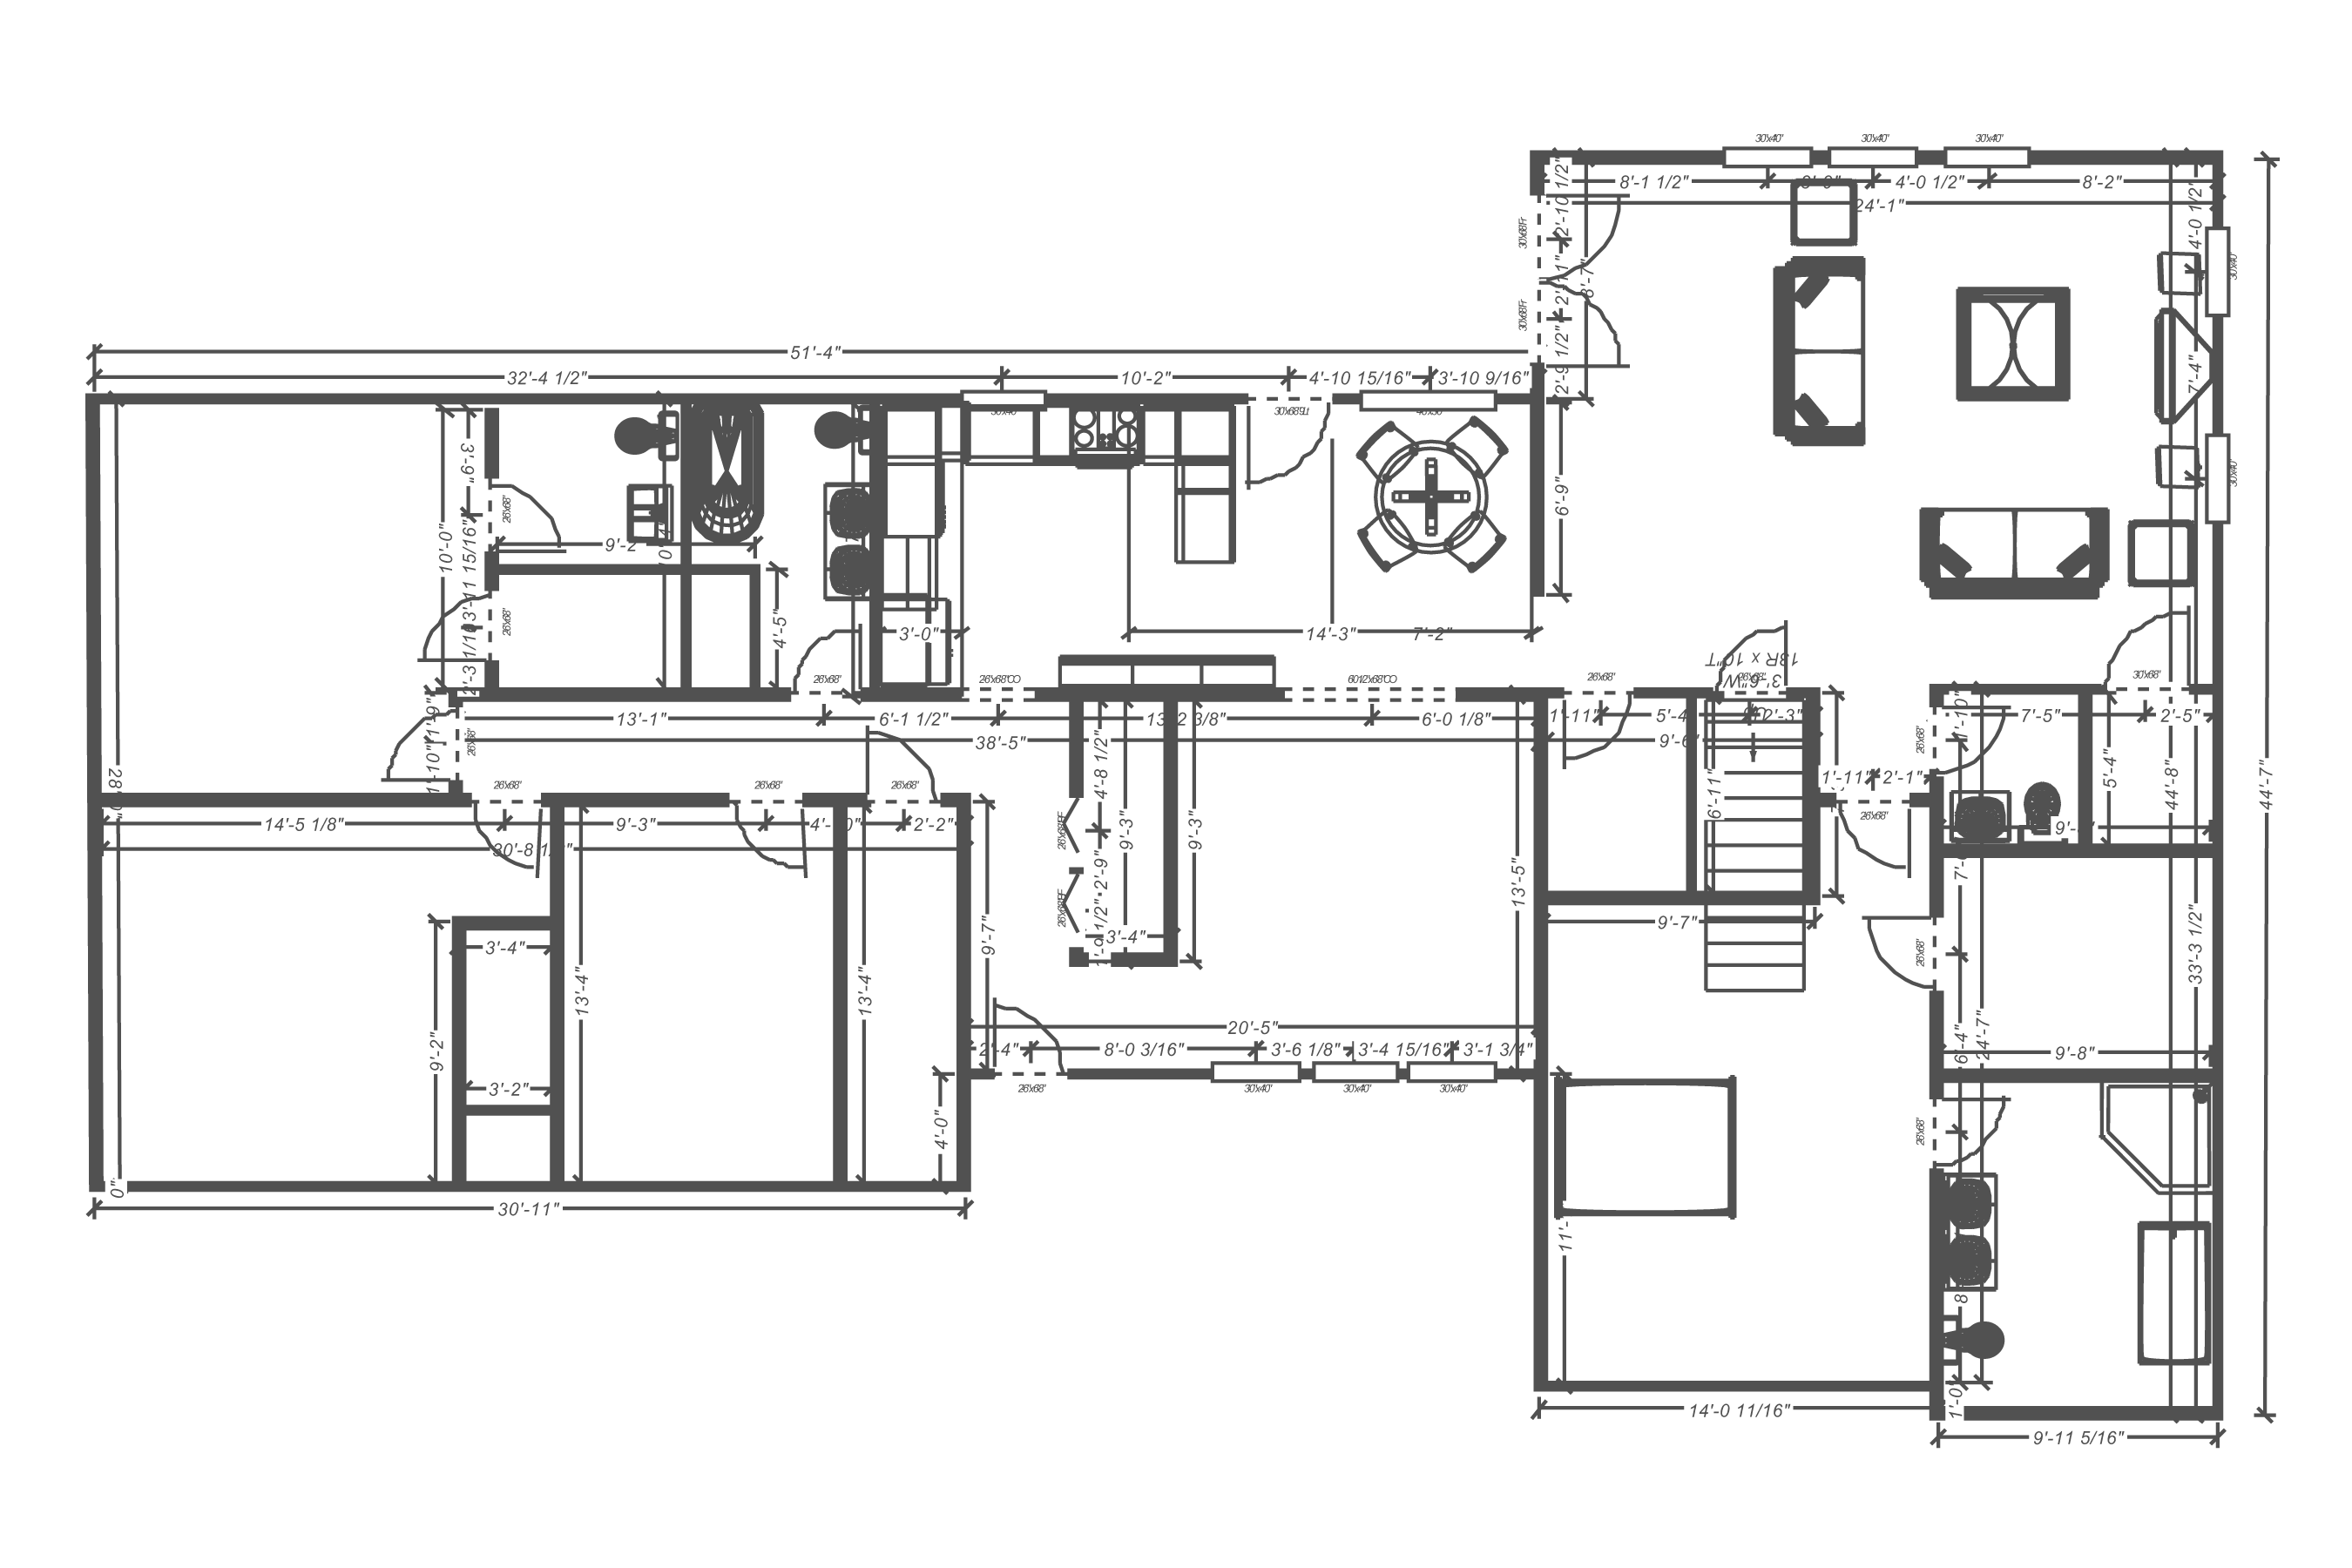door: (1507, 189, 1645, 371), (380, 697, 485, 793), (402, 583, 513, 670), (716, 786, 824, 873), (780, 613, 889, 700), (465, 474, 574, 562), (976, 1001, 1085, 1088), (1823, 793, 1932, 880), (1696, 623, 1804, 710), (2100, 605, 2208, 693), (1909, 1080, 2018, 1167), (842, 716, 950, 801), (1859, 910, 1967, 996), (1556, 677, 1640, 779), (467, 793, 555, 885)
wall: (59, 371, 954, 425), (70, 385, 115, 1206), (2193, 546, 2228, 1440), (1510, 1358, 1956, 1410), (110, 1174, 984, 1201), (1516, 135, 1717, 187)
